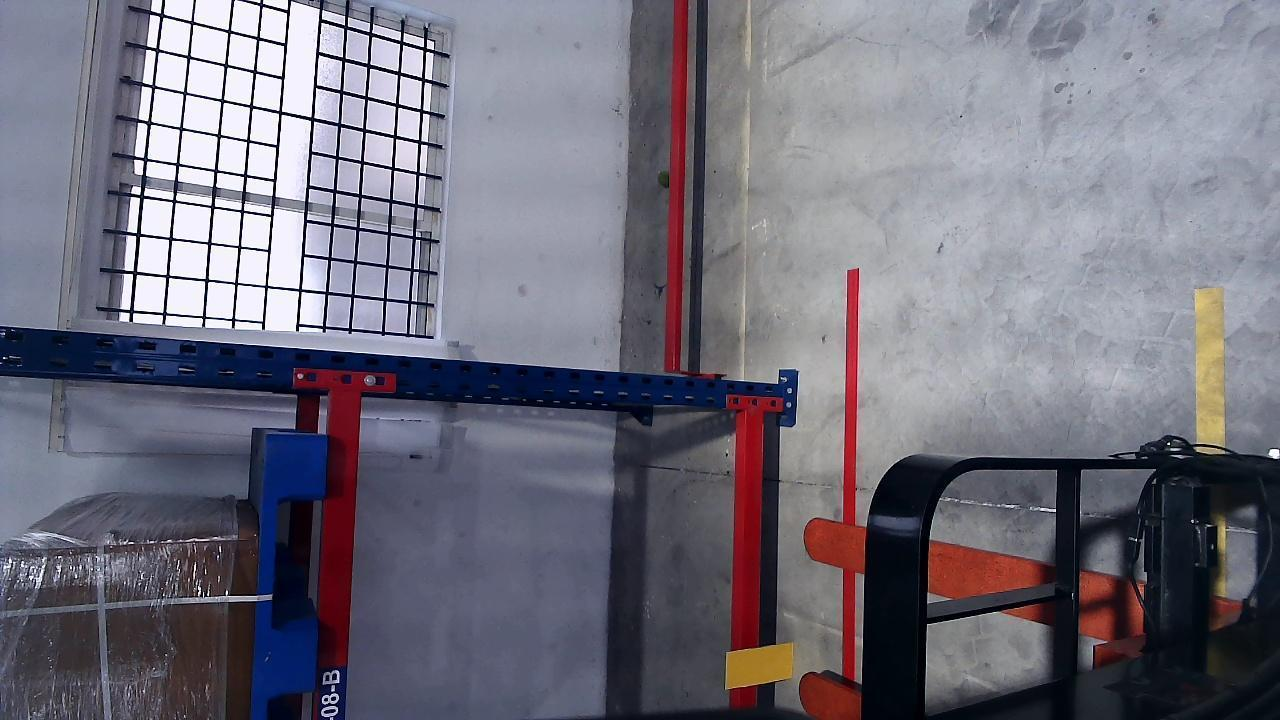red_line: (842, 267, 862, 519)
yellow_line: (1193, 286, 1226, 448)
